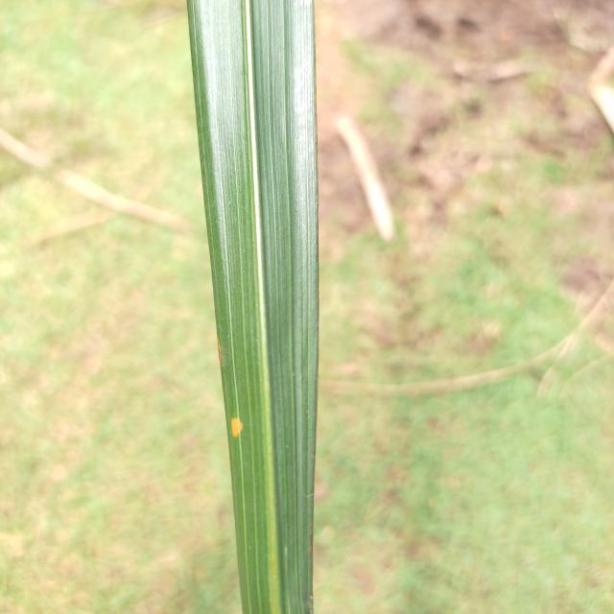Kalium: (184, 0, 323, 614)
